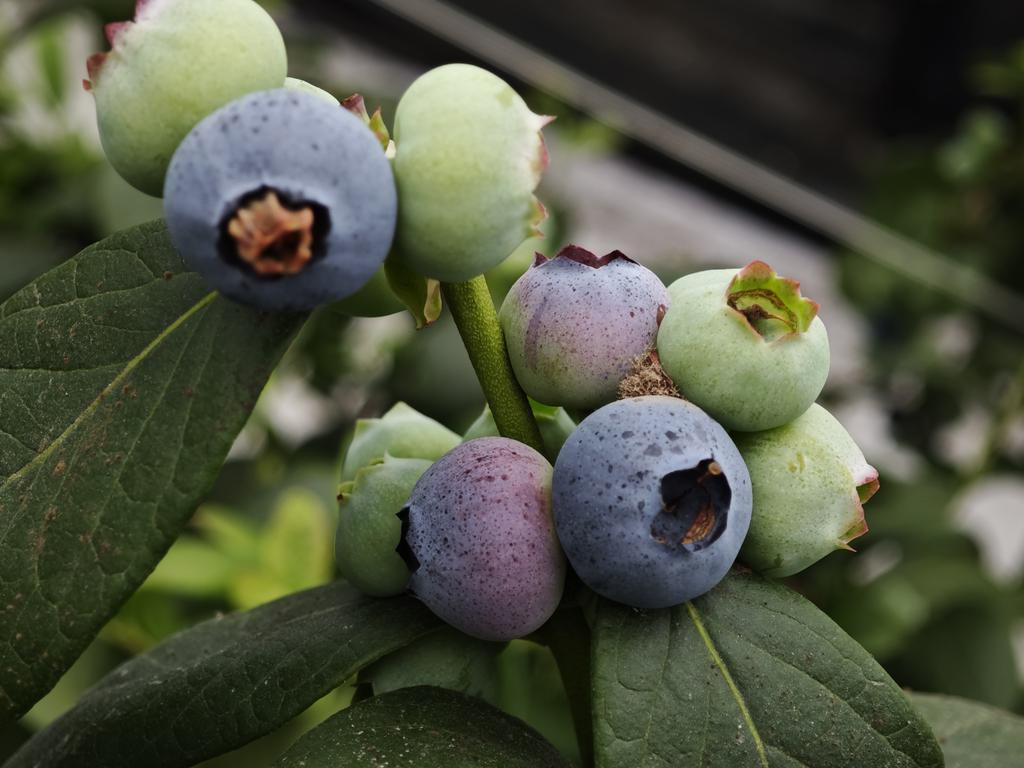RipeBlueBerry: (159, 88, 396, 318), (557, 392, 756, 609)
Semi-RipeBlueBerry: (399, 433, 565, 646), (503, 245, 668, 408)
UnripeBlueBerry: (395, 58, 548, 284), (662, 255, 834, 431)
